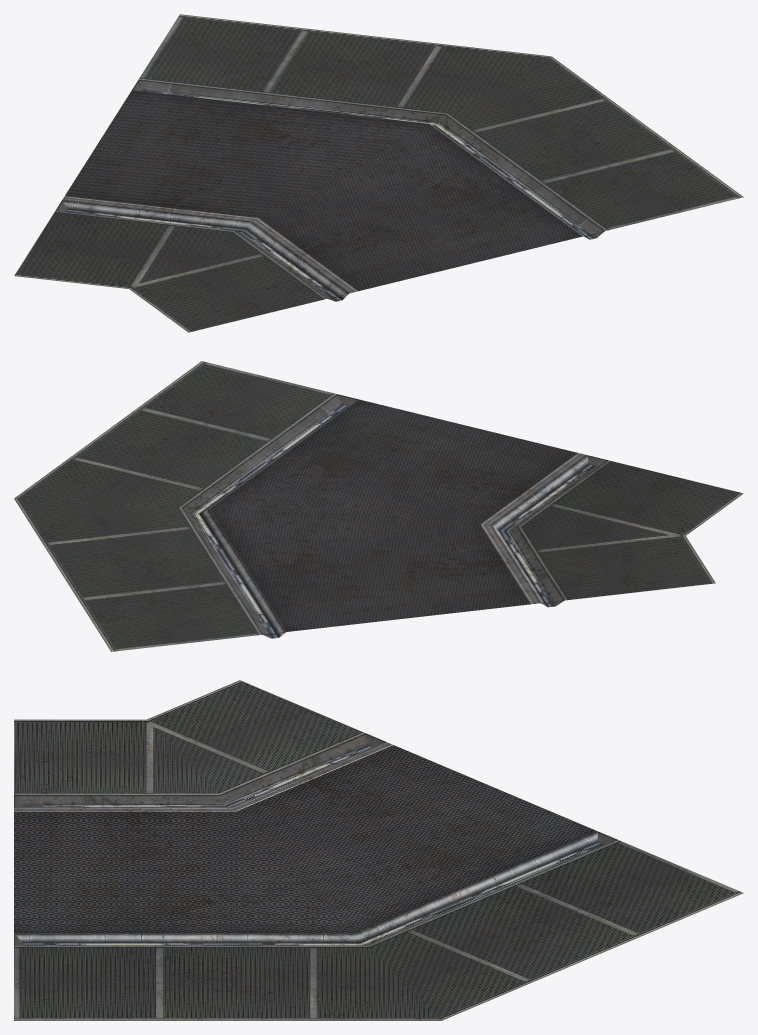
Rendered from Floor_B_5mts_02.fbx.
The picture shows the model from 3 angles, top to bottom: view 1: azimuth 30°, elevation 25°; view 2: azimuth 150°, elevation 25°; view 3: azimuth 270°, elevation 25°; orthographic projection. The views are drawn at different scales.
Visible parts, largest first — view 1: Floor_B_5mts_02; view 2: Floor_B_5mts_02; view 3: Floor_B_5mts_02.
Boxes of the visible parts, x1,y1,x2,y2 form: Floor_B_5mts_02: (14, 14, 743, 332); Floor_B_5mts_02: (14, 361, 743, 651); Floor_B_5mts_02: (14, 680, 743, 1020).
Bounding box in the file's own units: 566 × 4.45 × 512.
Materials: 1 (1 with a texture image).
